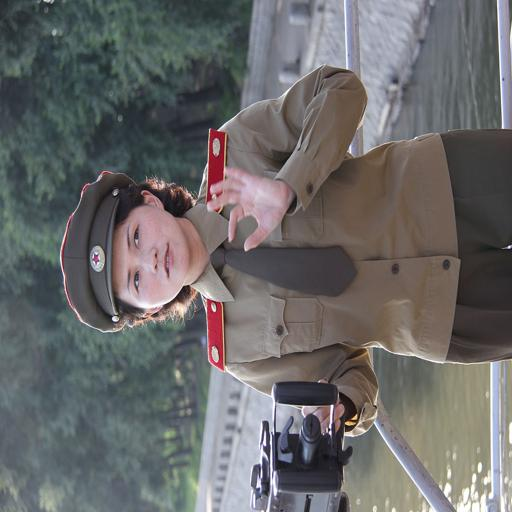north army: (76, 80, 512, 454)
